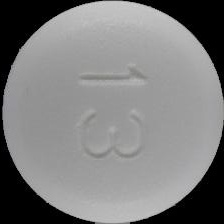0179-0183: (0, 0, 224, 224)
